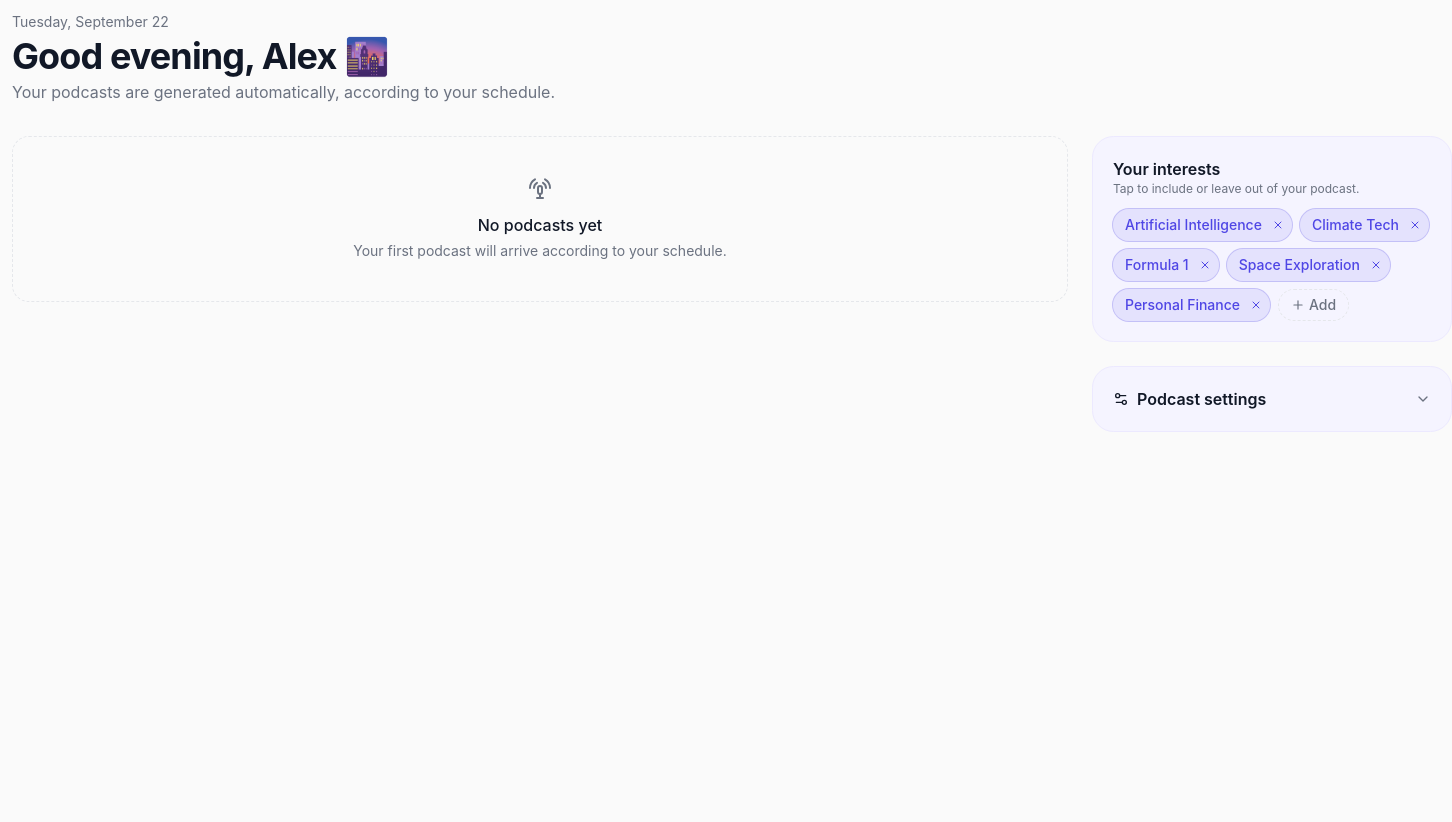
Test: Podcast settings › puts the on/off switch directly on the Schedule row, with no separate 'Schedule episodes' label
Click the button "Podcast settings" at (1202, 399), box [1113,387,1431,411]
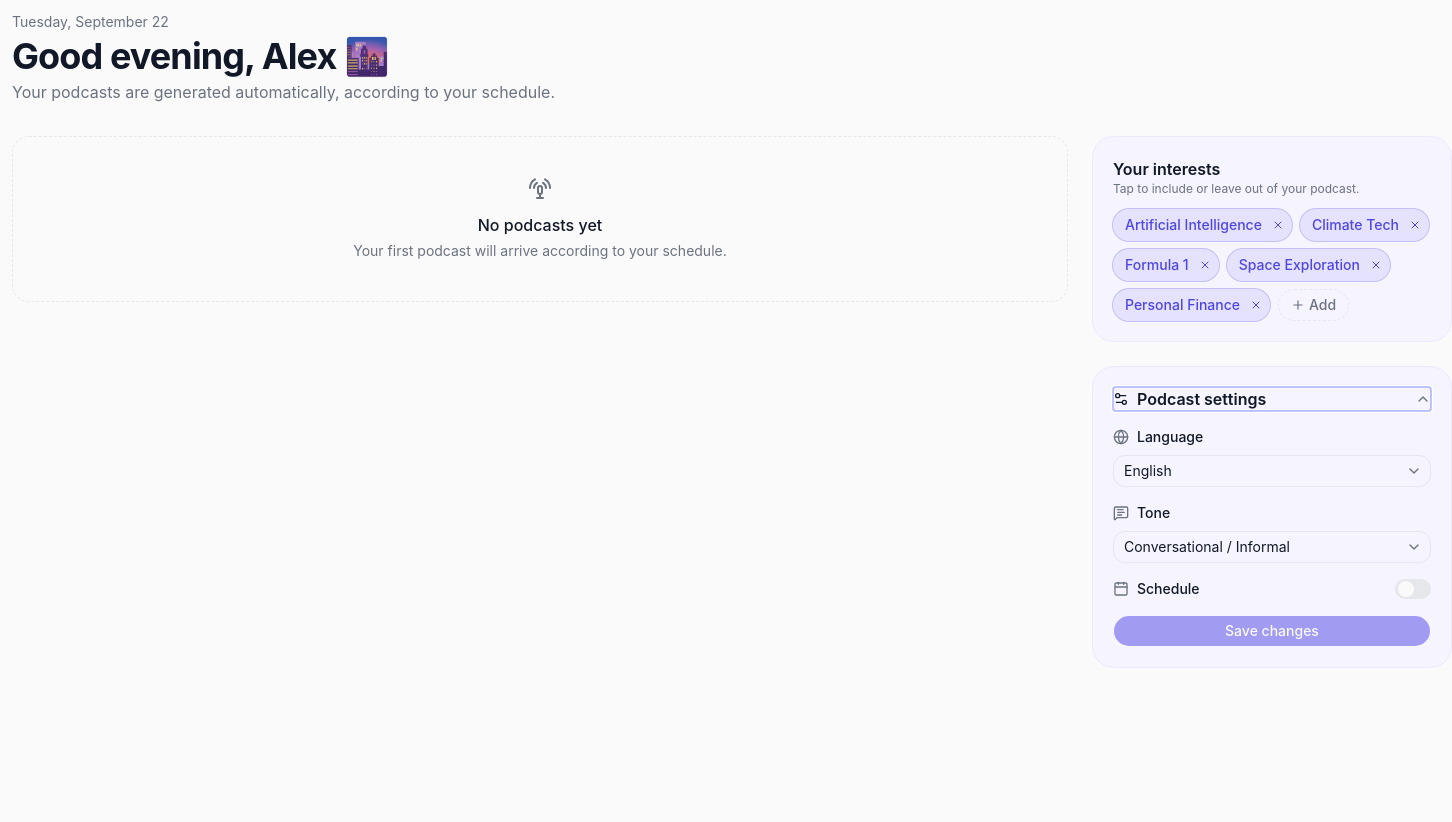
Expected: the text "Schedule" is shown once, [1113,581,1200,597]
